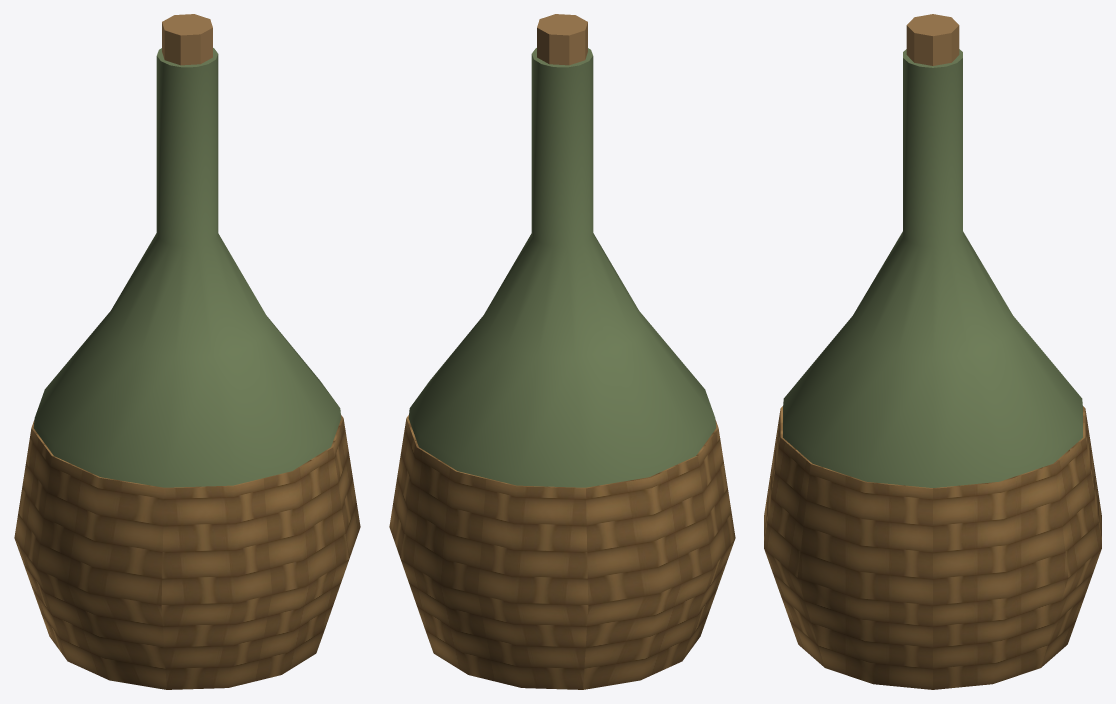
Rendered from tpl_dispensa_fiasco_giuseppe.glb.
The picture shows the model from 3 angles, left to right: view 1: azimuth 30°, elevation 25°; view 2: azimuth 150°, elevation 25°; view 3: azimuth 270°, elevation 25°; orthographic projection.
Visible parts, largest first — view 1: tpl_dispensa_fiasco_giuseppe; view 2: tpl_dispensa_fiasco_giuseppe; view 3: tpl_dispensa_fiasco_giuseppe.
Part boxes in pixels (left/top/right/bottom): tpl_dispensa_fiasco_giuseppe: left=14, top=14, right=360, bottom=689; tpl_dispensa_fiasco_giuseppe: left=389, top=14, right=735, bottom=689; tpl_dispensa_fiasco_giuseppe: left=764, top=14, right=1101, bottom=689.
Bounding box in the file's own units: 0.158 × 0.305 × 0.154.
3 materials, 1 textured.
